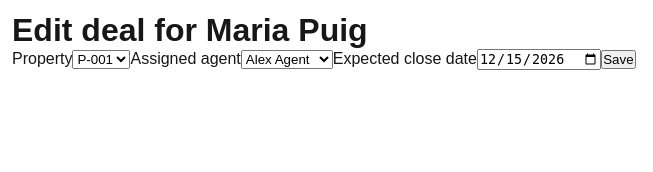
Test: Deal edit view › submits only the changed fields and shows a saved confirmation
The width and height of the screenshot is (653, 172).
Expected: the dropdown labelled "Property" shows "P-001", [72,50,130,69]
Select "Blair Broker" in the dropdown labelled "Assigned agent" at {"x": 287, "y": 60}, box [241,50,333,69]
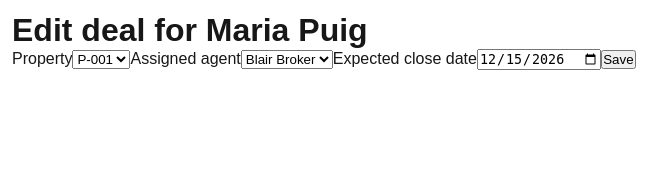
Click the button "Save" at {"x": 618, "y": 60}, box [601,50,636,69]
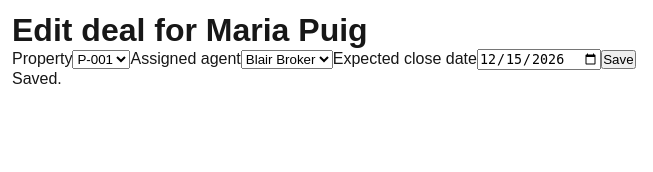
Expected: the text "Saved." is shown, [12,70,62,87]
